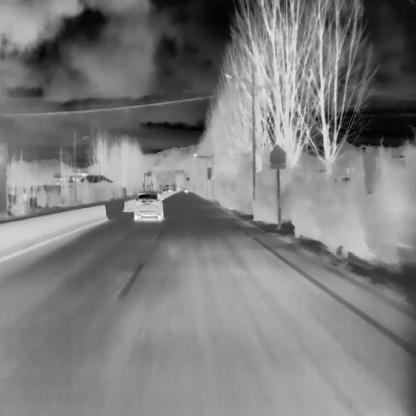car: (133, 192, 163, 219)
